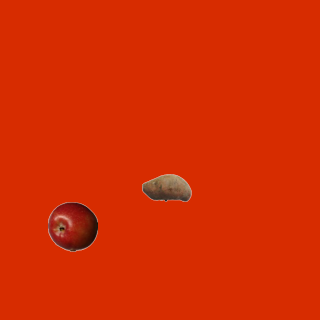Apple Braeburn: (47, 201, 97, 251)
Potato Sweet: (141, 162, 191, 212)
